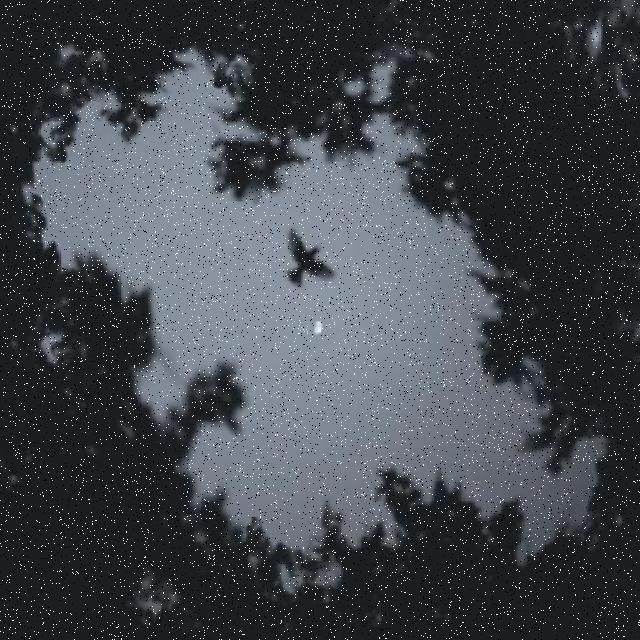bird: (284, 224, 338, 290)
